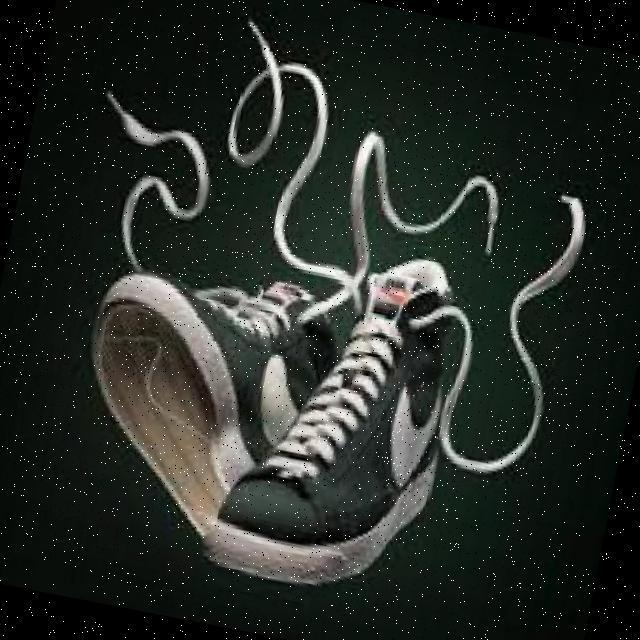Nike: (377, 372, 452, 496)
